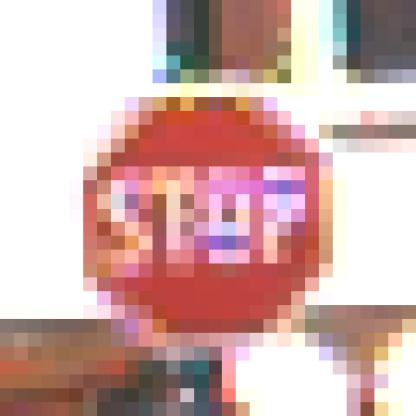stop: (67, 89, 362, 359)
